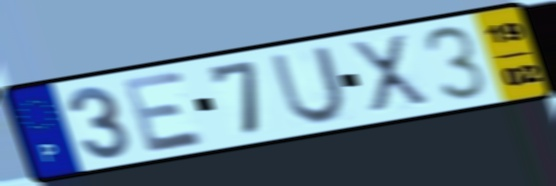3: (422, 23, 491, 104), (66, 83, 133, 162)
7: (206, 57, 263, 137)
E: (118, 67, 209, 156)
U: (268, 43, 350, 126)
X: (345, 31, 435, 115)
